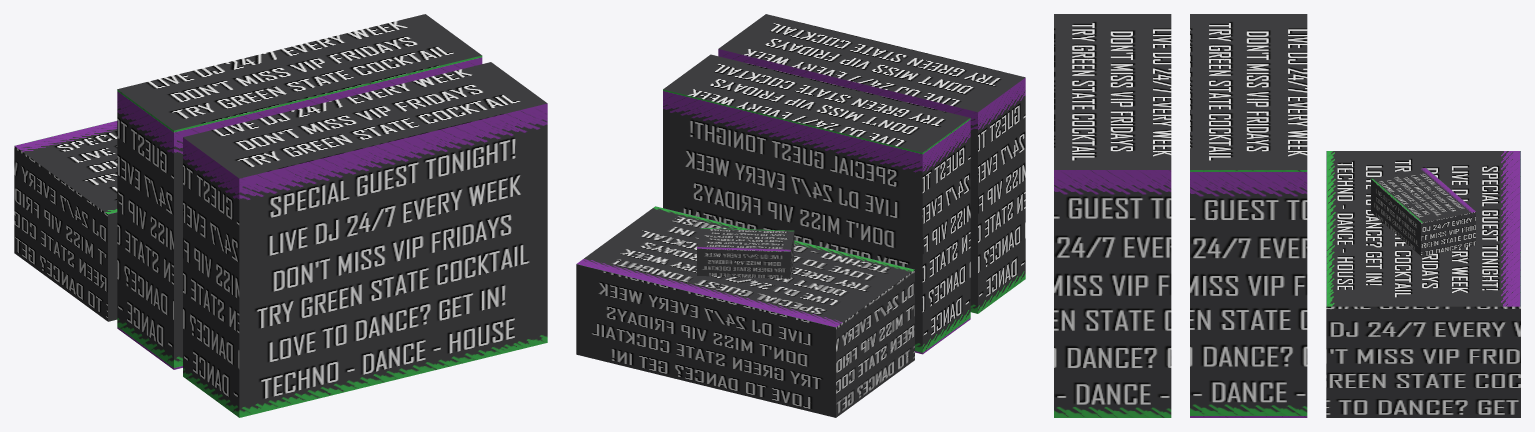
File: basket_placeholder.glb
The picture shows the model from 3 angles, left to right: view 1: azimuth 30°, elevation 25°; view 2: azimuth 150°, elevation 25°; view 3: azimuth 270°, elevation 25°; orthographic projection. The views are drawn at different scales.
Visible parts, largest first — view 1: Placeholder_Item_1, Placeholder_Item_2, Placeholder_Item_3; view 2: Placeholder_Item_2, Placeholder_Item_3, Placeholder_Item_1, Placeholder_Item_4; view 3: Placeholder_Item_1, Placeholder_Item_2, Placeholder_Item_3, Placeholder_Item_4.
Boxes of the visible parts, x1,y1,x2,y2 form: Placeholder_Item_1: [183, 62, 547, 417]; Placeholder_Item_2: [117, 14, 482, 369]; Placeholder_Item_3: [14, 121, 117, 321]; Placeholder_Item_2: [663, 54, 970, 354]; Placeholder_Item_3: [576, 206, 914, 417]; Placeholder_Item_1: [718, 14, 1025, 313]; Placeholder_Item_4: [697, 227, 794, 278]; Placeholder_Item_1: [1054, 14, 1171, 417]; Placeholder_Item_2: [1190, 14, 1307, 417]; Placeholder_Item_3: [1326, 151, 1520, 417]; Placeholder_Item_4: [1371, 168, 1475, 256].
Bounding box in the file's own units: 0.1848 × 0.1371 × 0.2338.
Materials: 1 (1 with a texture image).
